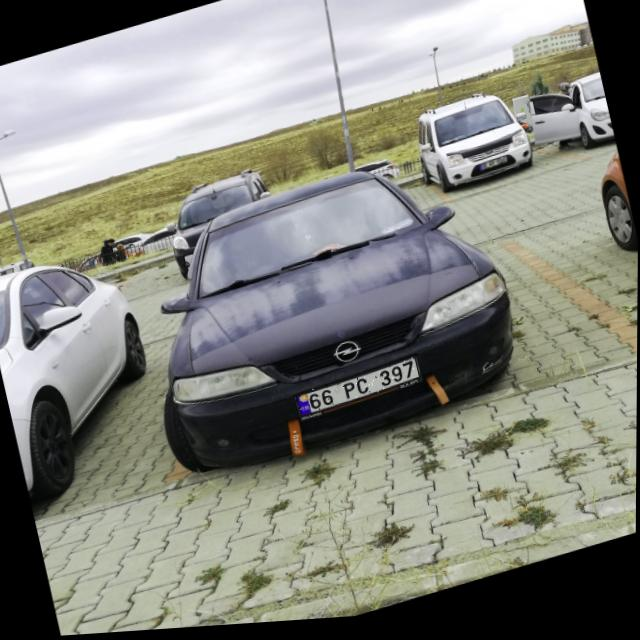license_plate: (294, 362, 421, 419), (479, 163, 508, 175)
